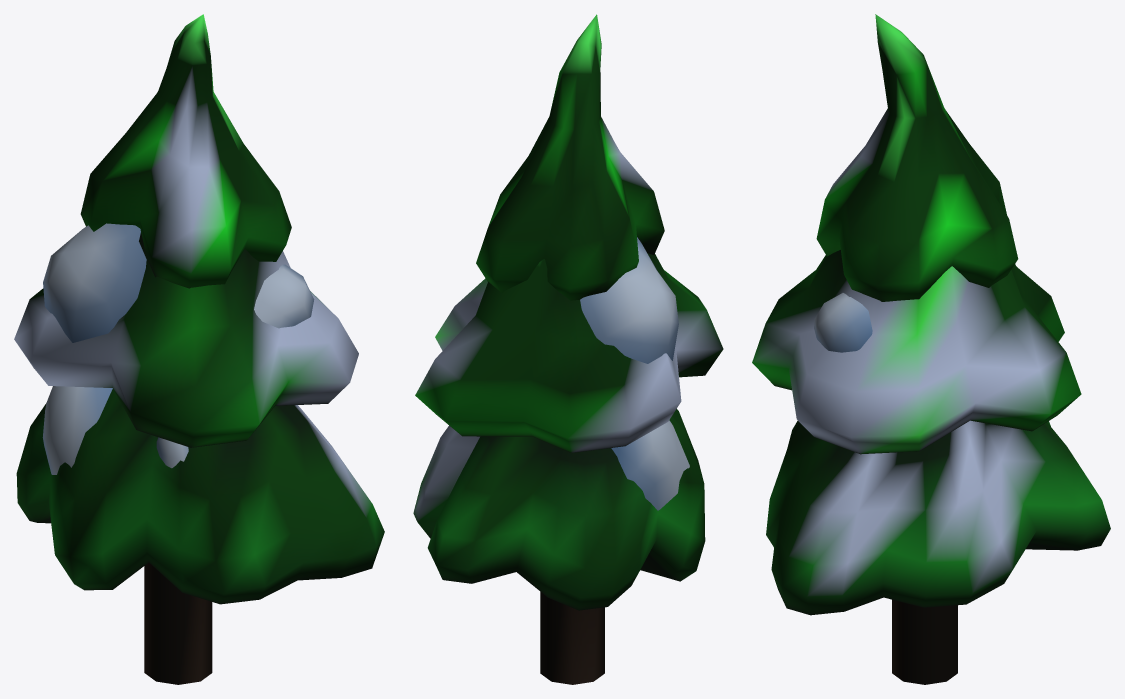
Rendered from Tree_04.fbx.
The picture shows the model from 3 angles, left to right: view 1: azimuth 30°, elevation 25°; view 2: azimuth 150°, elevation 25°; view 3: azimuth 270°, elevation 25°; orthographic projection. The views are drawn at different scales.
Visible parts, largest first — view 1: Tree_04; view 2: Tree_04; view 3: Tree_04.
Boxes of the visible parts, bbox=[...] form: Tree_04: bbox=[14, 14, 384, 684]; Tree_04: bbox=[413, 14, 723, 684]; Tree_04: bbox=[752, 14, 1110, 684].
Bounding box in the file's own units: 1589 × 3625 × 1796.
